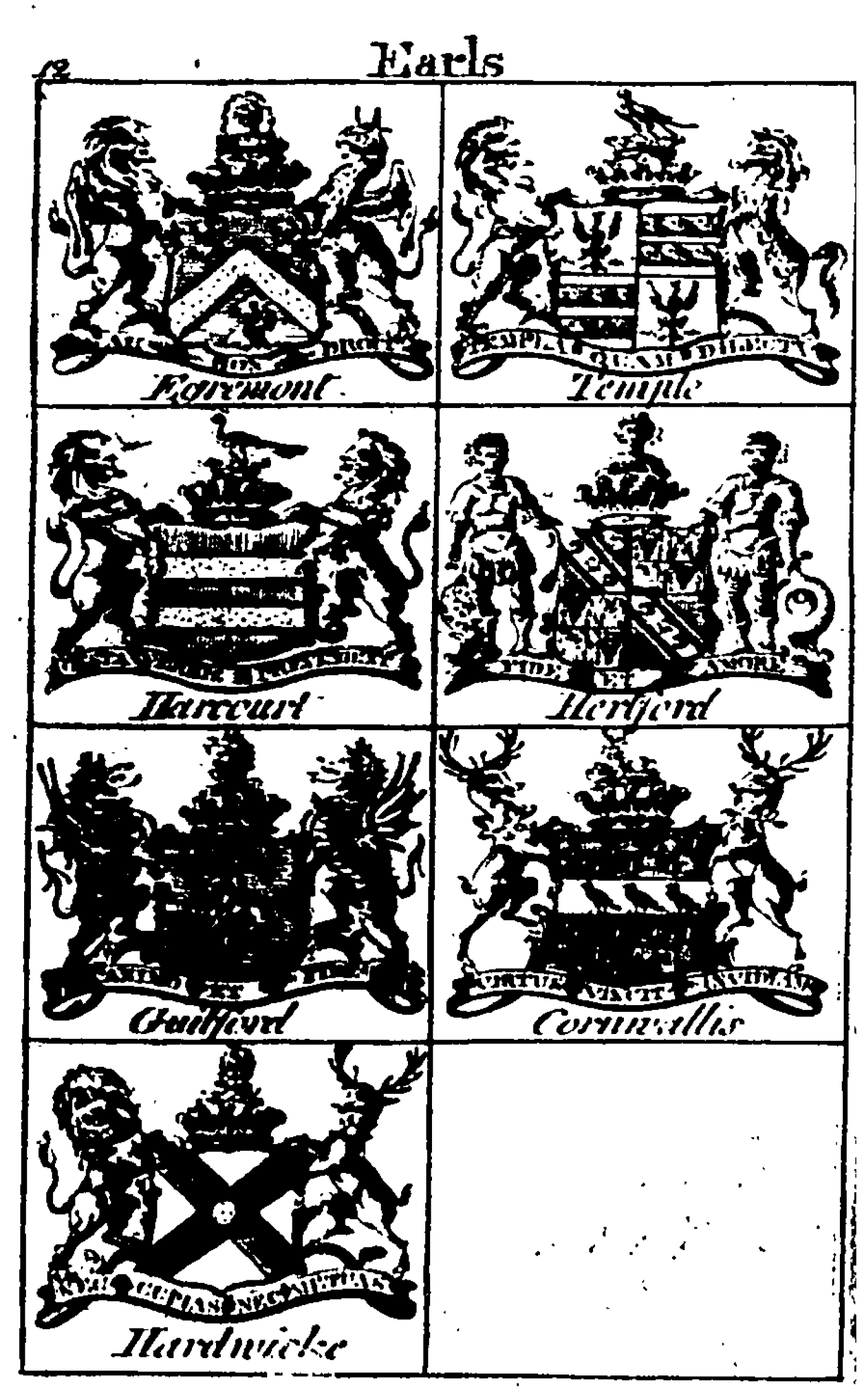coat_of_arms: (440, 91, 839, 405), (444, 410, 837, 724), (34, 1049, 415, 1367), (57, 94, 429, 405), (47, 417, 422, 721), (43, 735, 420, 1037), (446, 738, 821, 1035)
